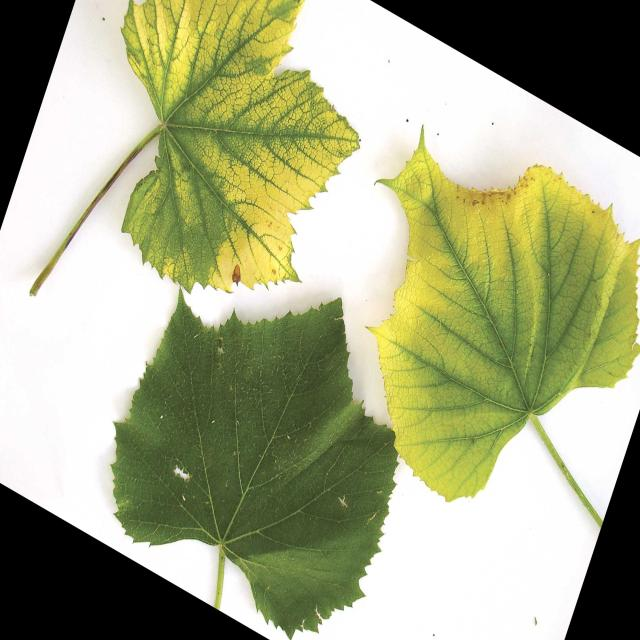Chlorosis: (44, 0, 636, 611)
